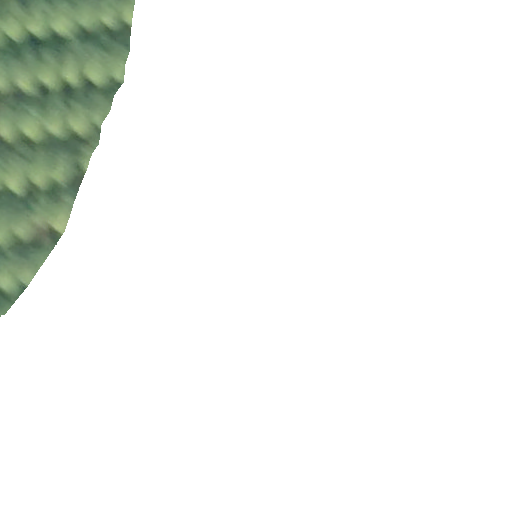eucalipto: (34, 42, 68, 94)
